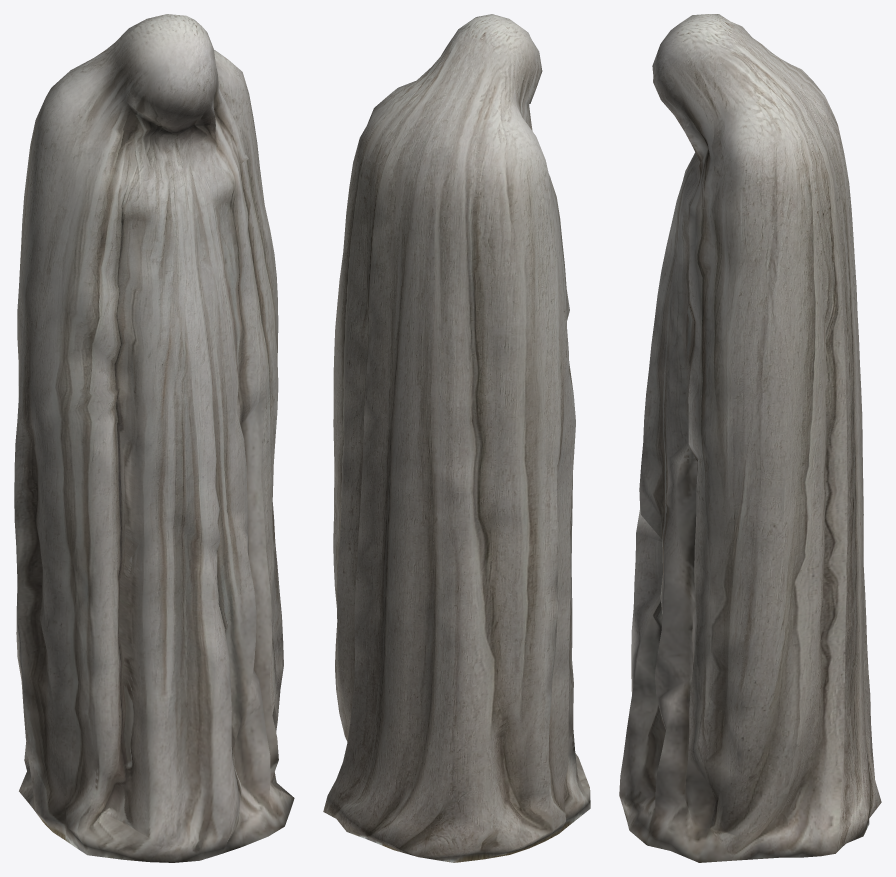
The model's file is FullFigure_closed_v1.glb.
The picture shows the model from 3 angles, left to right: view 1: azimuth 30°, elevation 25°; view 2: azimuth 150°, elevation 25°; view 3: azimuth 270°, elevation 25°; orthographic projection. The views are drawn at different scales.
Visible parts, largest first — view 1: texture_mapping; view 2: texture_mapping; view 3: texture_mapping.
Part boxes in pixels (x1,y1,x2,y2): texture_mapping: (14, 14, 294, 862); texture_mapping: (323, 14, 590, 862); texture_mapping: (619, 14, 881, 862).
Size of the model in its own units: 0.3152 by 1 by 0.3023.
1 material, 1 textured.
